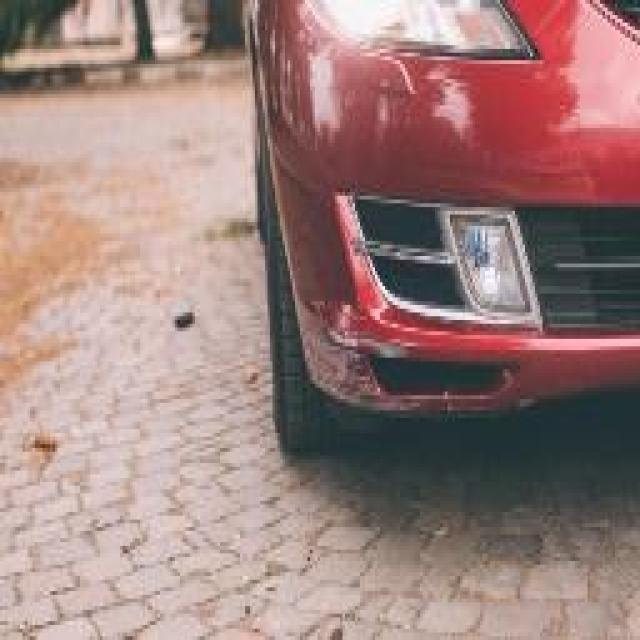Bumper: (270, 128, 640, 425)
